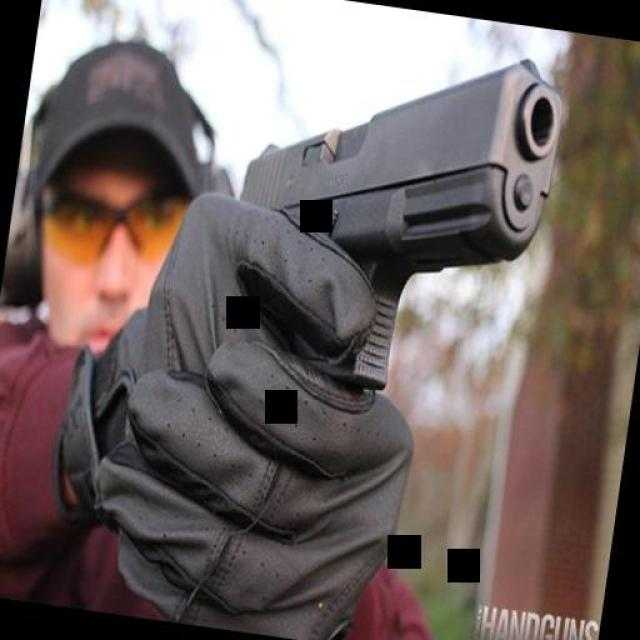gun: (204, 24, 576, 425)
